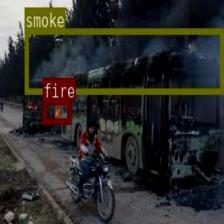fire: (42, 99, 70, 124)
smoke: (24, 27, 223, 94)
